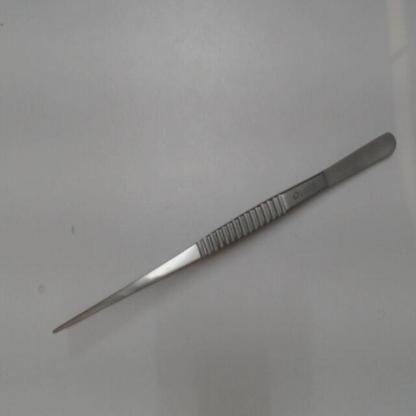DeBakey Dissector: (49, 102, 415, 348)
